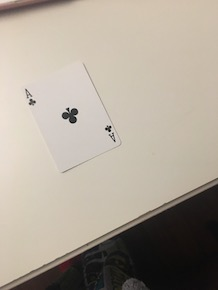AceOfClubs: (16, 60, 128, 178)
